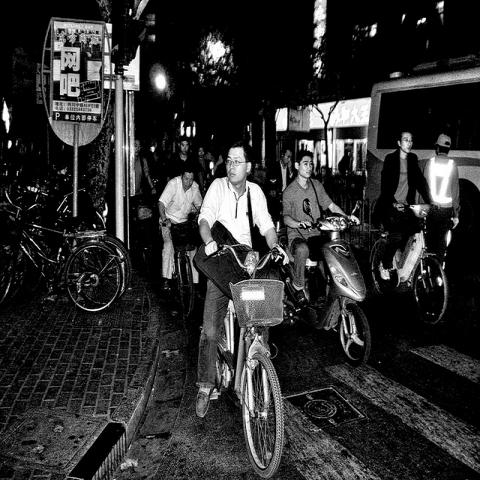bus: (366, 67, 479, 253)
motorcycle: (277, 197, 368, 363), (367, 198, 449, 326)
